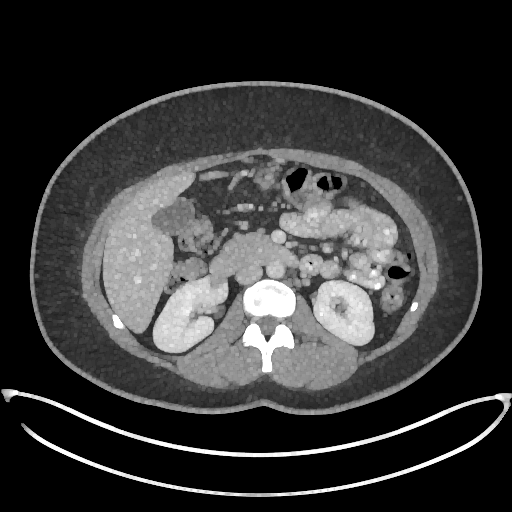Lesion: (206, 270, 229, 291)
